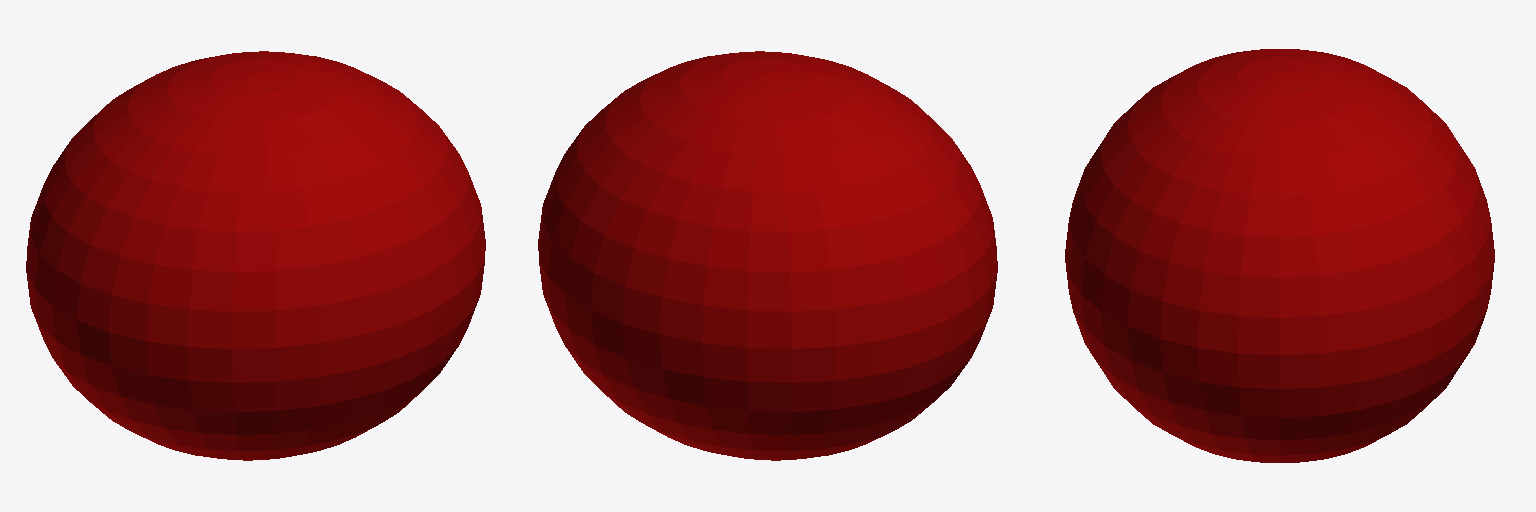
File: moya_rice_r.obj
The picture shows the model from 3 angles: view 1: azimuth 30°, elevation 25°; view 2: azimuth 150°, elevation 25°; view 3: azimuth 270°, elevation 25°; orthographic projection.
Parts seen in each view (by area): view 1: Sphere_Sphere.005_Sphere_Sphere.007; view 2: Sphere_Sphere.005_Sphere_Sphere.007; view 3: Sphere_Sphere.005_Sphere_Sphere.007.
Boxes of the visible parts, x1,y1,x2,y2 form: Sphere_Sphere.005_Sphere_Sphere.007: [26, 51, 485, 460]; Sphere_Sphere.005_Sphere_Sphere.007: [538, 51, 997, 460]; Sphere_Sphere.005_Sphere_Sphere.007: [1065, 49, 1494, 462].
Bounding box in the file's own units: 0.2297 × 0.1969 × 0.21.